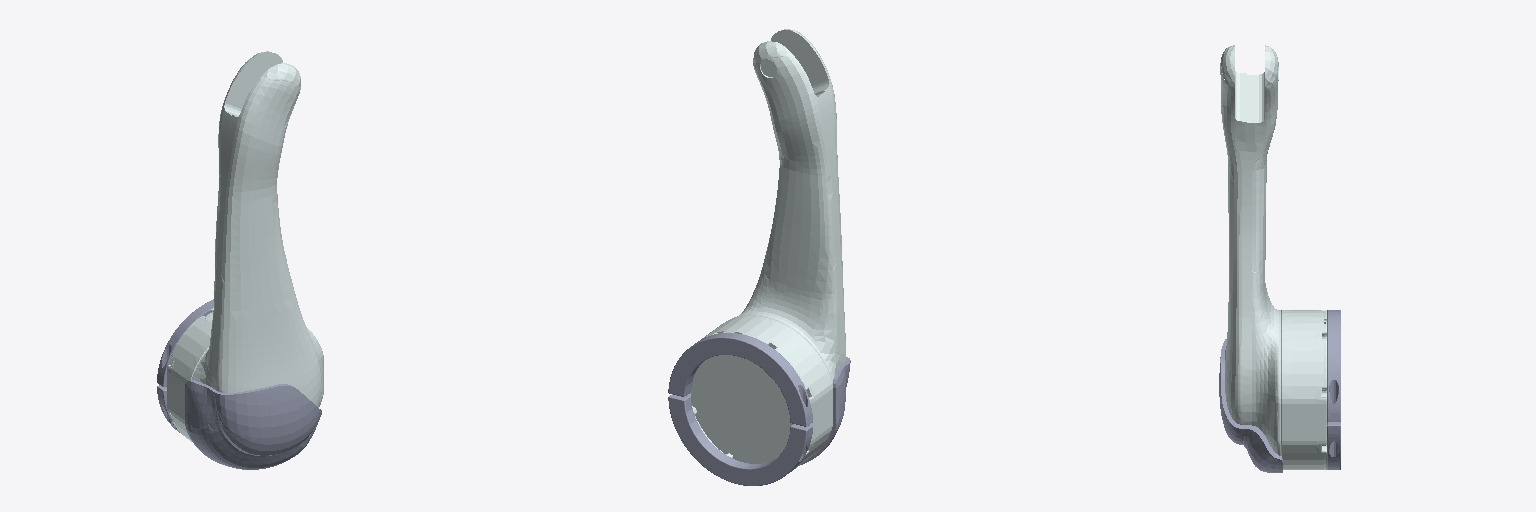
File: thigh.obj
3 views of the same model, side by side, from view 1: azimuth 30°, elevation 25°; view 2: azimuth 150°, elevation 25°; view 3: azimuth 270°, elevation 25° (orthographic).
Parts seen in each view (by area): view 1: thigh; view 2: thigh; view 3: thigh.
Part boxes in pixels (bbox=[...]): thigh: bbox=[157, 51, 323, 469]; thigh: bbox=[668, 29, 850, 485]; thigh: bbox=[1219, 45, 1340, 472].
Bounding box in the file's own units: 0.0969 × 0.2779 × 0.0734.